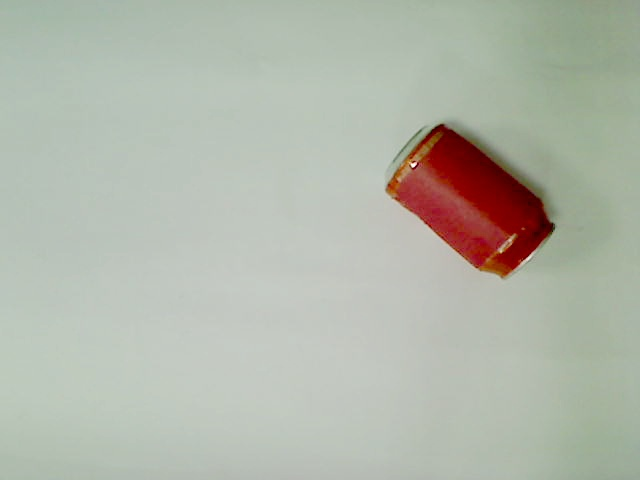can: (385, 121, 558, 284)
